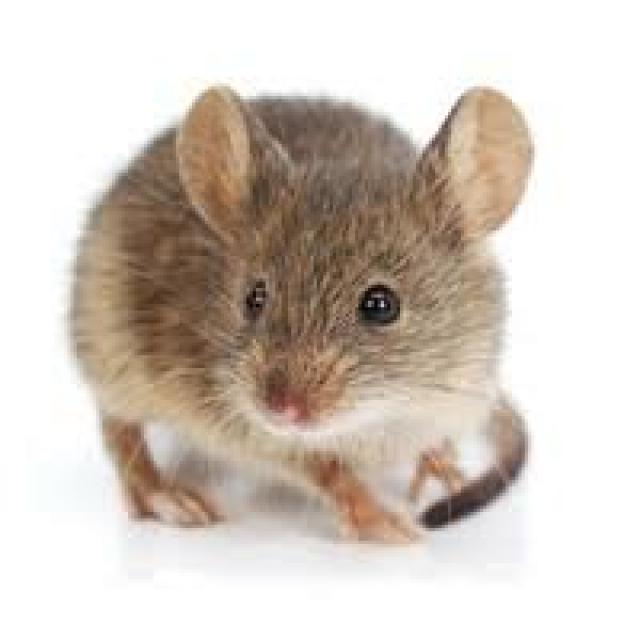Mouse: (49, 70, 554, 552)
